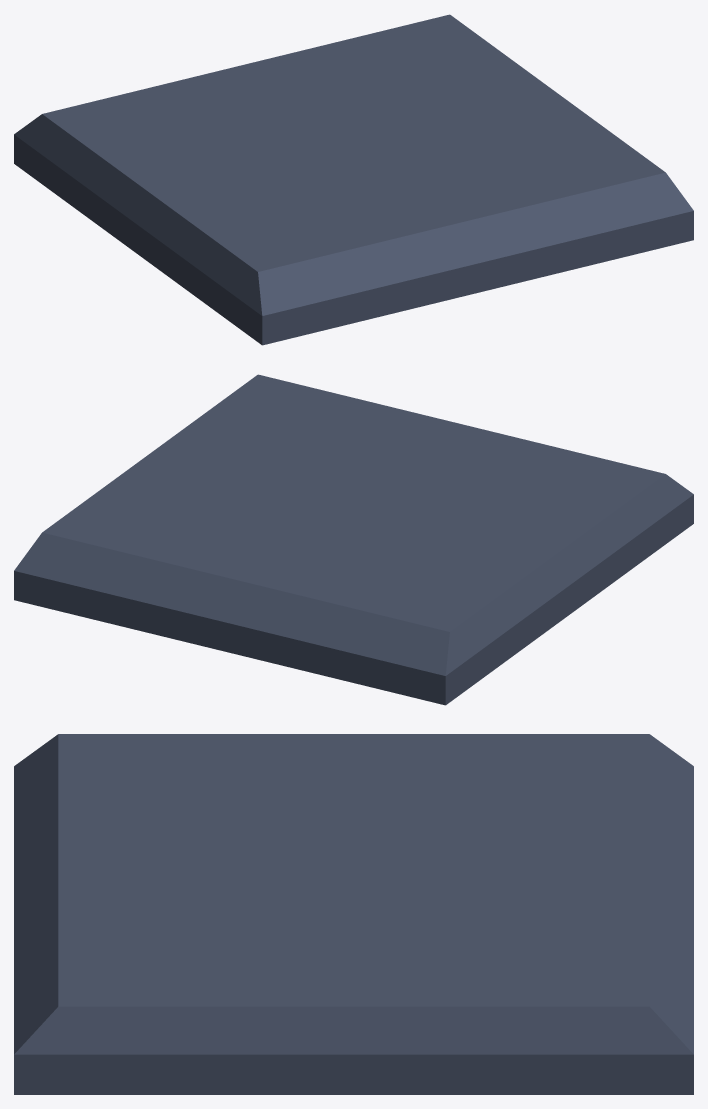
File: Trampa.fbx
3 views of the same model, one above another, from view 1: azimuth 30°, elevation 25°; view 2: azimuth 150°, elevation 25°; view 3: azimuth 270°, elevation 25° (orthographic). The views are drawn at different scales.
Parts seen in each view (by area): view 1: Escenario:Trampa; view 2: Escenario:Trampa; view 3: Escenario:Trampa.
Part boxes in pixels (x1,y1,x2,y2): Escenario:Trampa: (14, 14, 693, 345); Escenario:Trampa: (14, 374, 693, 705); Escenario:Trampa: (14, 734, 693, 1094).
Size of the model in its own units: 2.76 by 0.3581 by 2.75.
